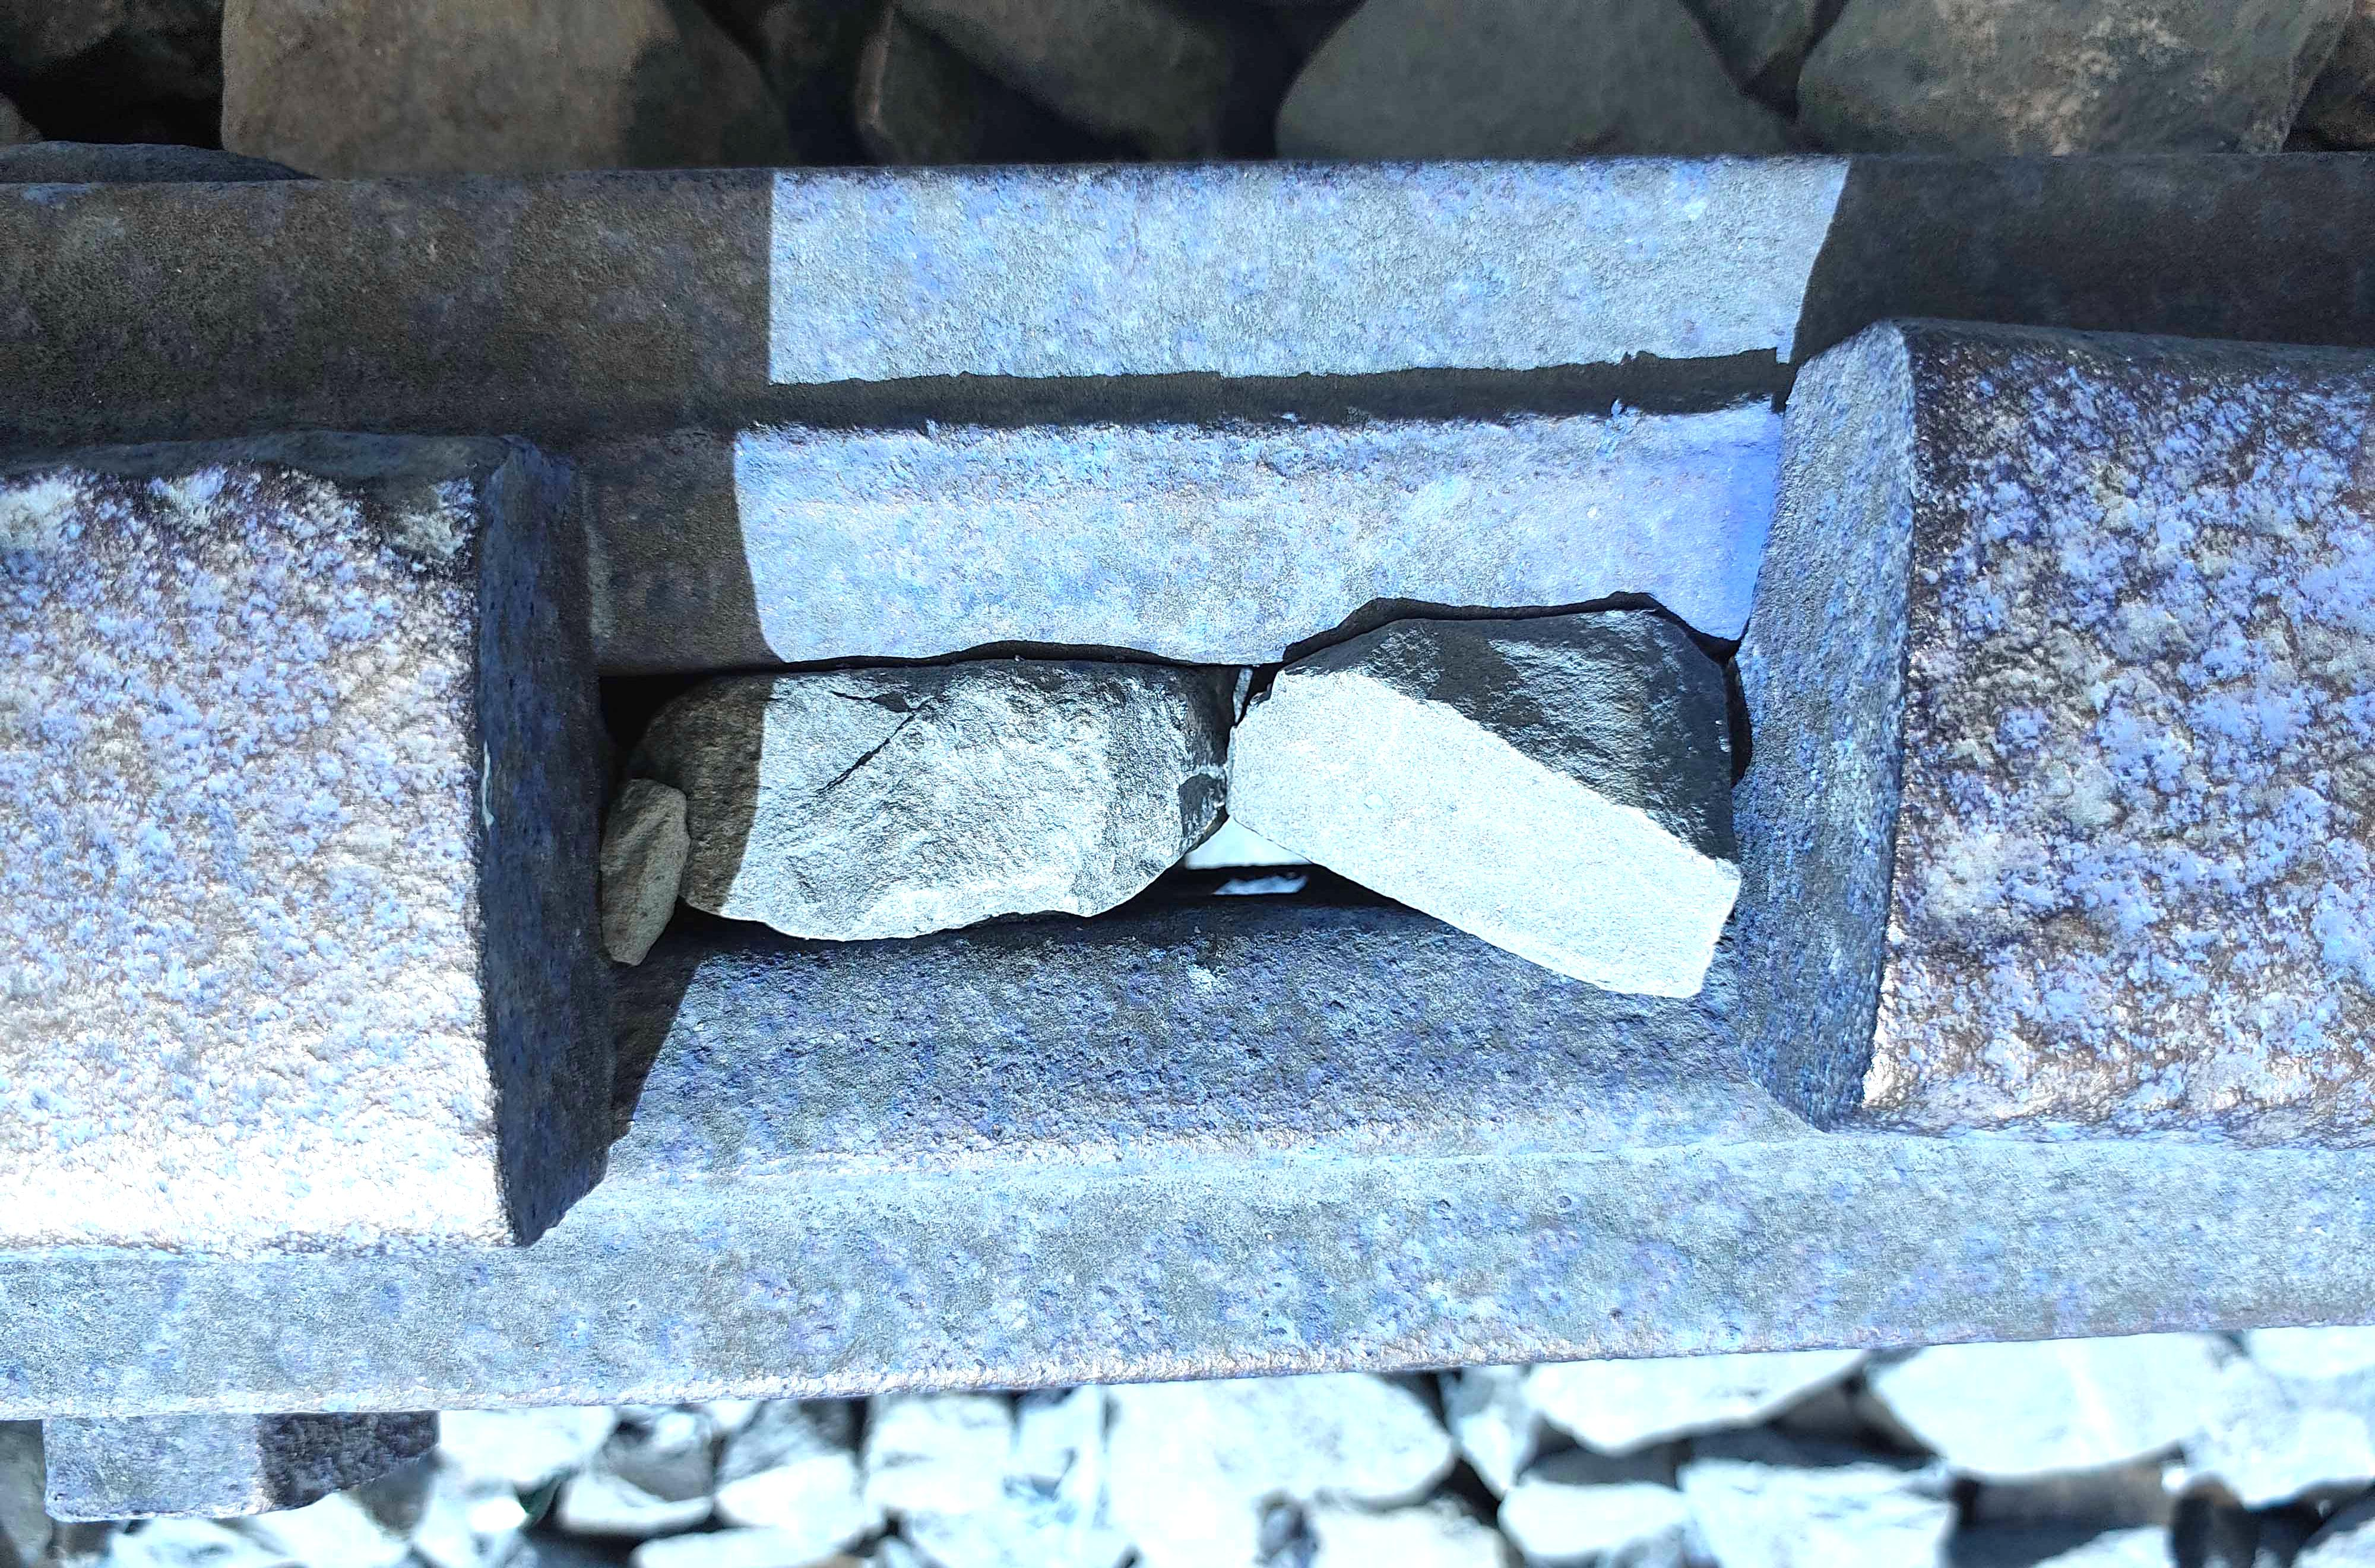error2: (452, 261, 2018, 1342)
